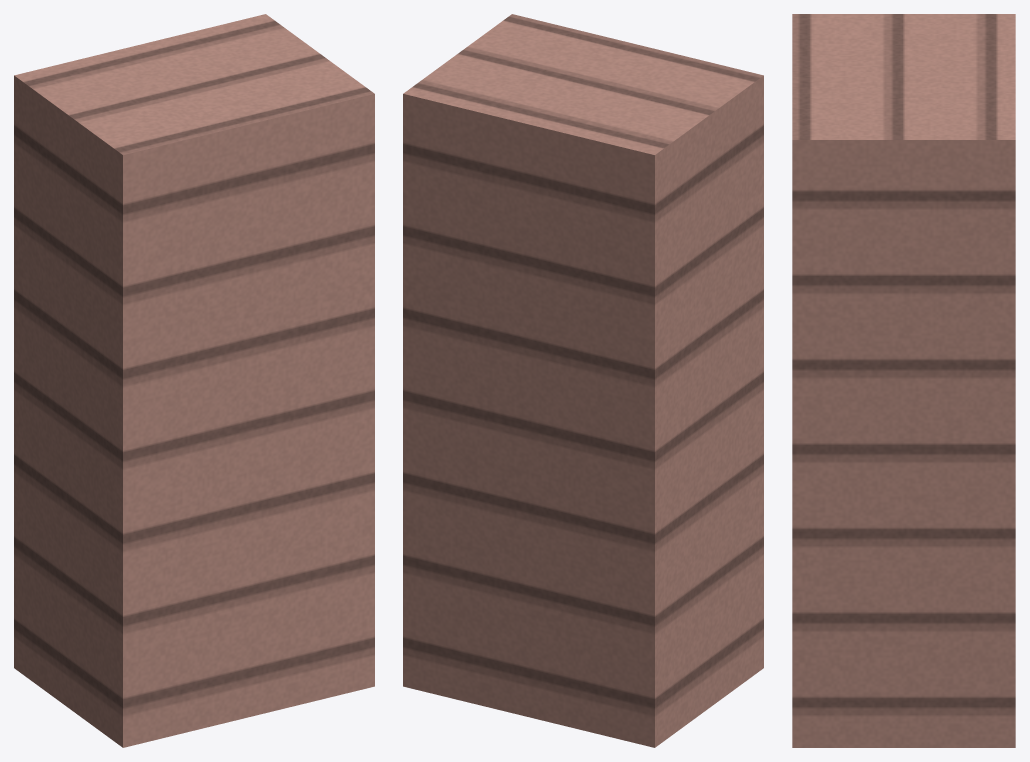
File: dress_form.glb
3 views of the same model, side by side, from view 1: azimuth 30°, elevation 25°; view 2: azimuth 150°, elevation 25°; view 3: azimuth 270°, elevation 25° (orthographic). The views are drawn at different scales.
Visible parts, largest first — view 1: dress_form-col; view 2: dress_form-col; view 3: dress_form-col.
Boxes of the visible parts, box(x1,y1,x2,y2) form: dress_form-col: box(14, 14, 374, 747); dress_form-col: box(403, 14, 763, 747); dress_form-col: box(792, 14, 1015, 747).
Bounding box in the file's own units: 0.4 × 0.9 × 0.3.
Materials: 1 (1 with a texture image).
